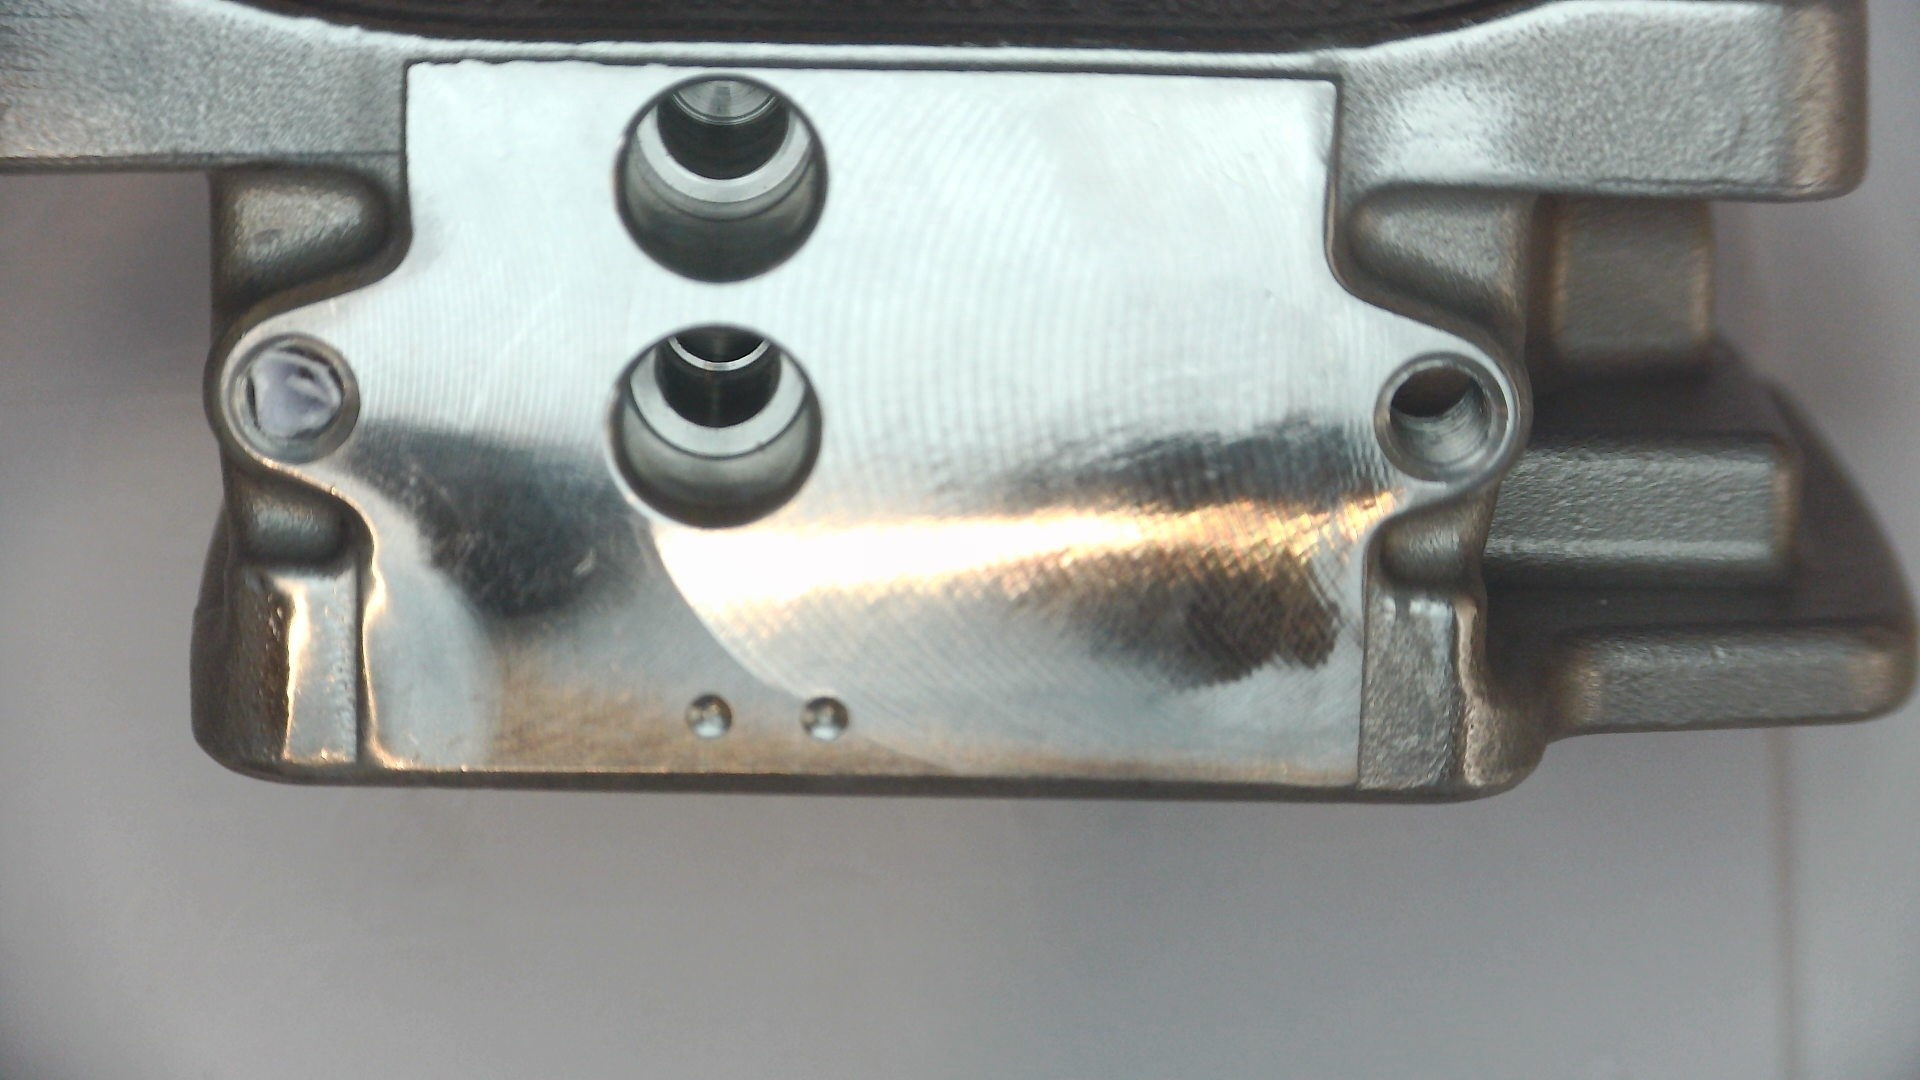thread_absence: (607, 69, 831, 287), (600, 320, 825, 535), (220, 327, 364, 464)
thread_presence: (1385, 357, 1498, 471)
